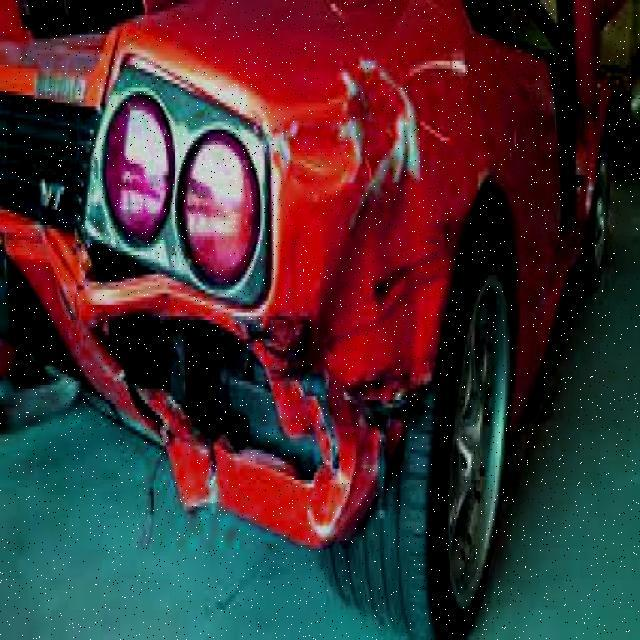car damage: (9, 30, 473, 554)
